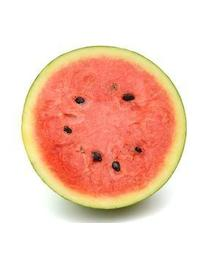watermelon: (20, 44, 187, 212)
